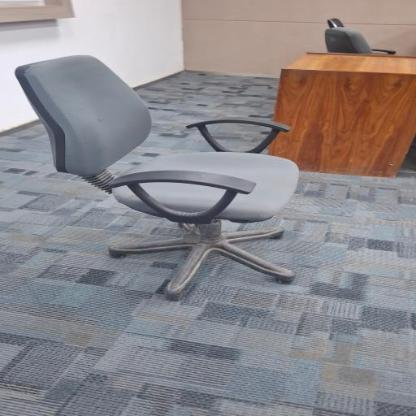chair: (12, 50, 304, 298)
